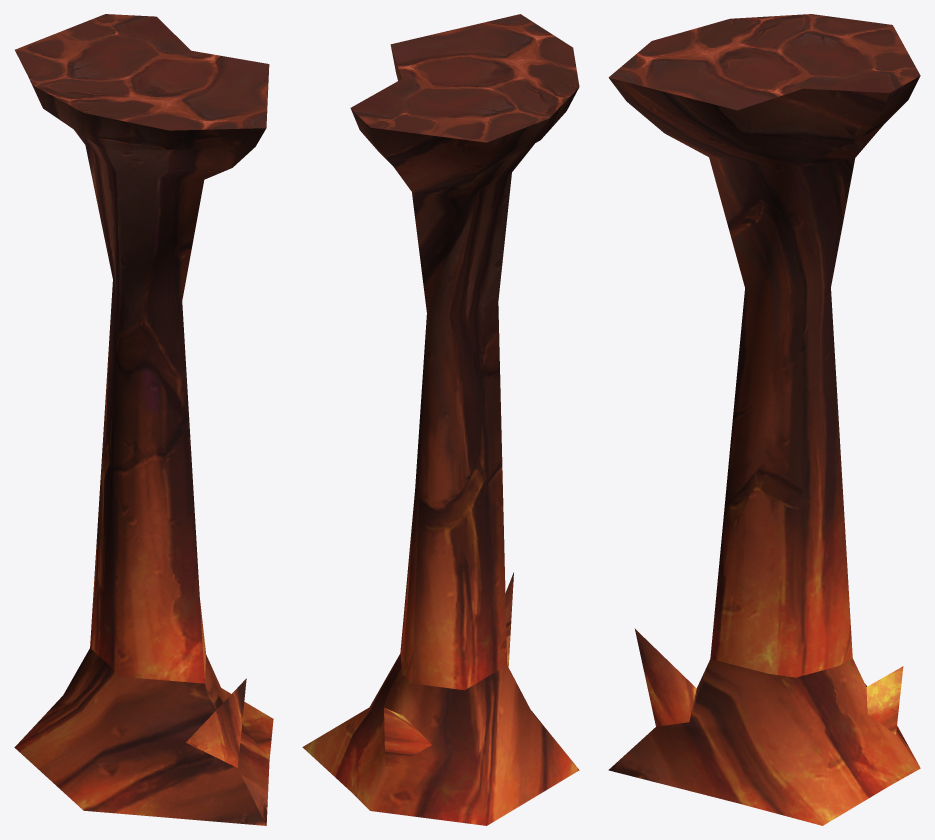
Rendered from fukongshi_huo_01.FBX.
3 views of the same model, side by side, from view 1: azimuth 30°, elevation 25°; view 2: azimuth 150°, elevation 25°; view 3: azimuth 270°, elevation 25° (orthographic). The views are drawn at different scales.
Parts seen in each view (by area): view 1: fukongshi_huo_01; view 2: fukongshi_huo_01; view 3: fukongshi_huo_01.
Part boxes in pixels (bbox=[...]): fukongshi_huo_01: bbox=[14, 14, 273, 825]; fukongshi_huo_01: bbox=[302, 14, 579, 825]; fukongshi_huo_01: bbox=[608, 14, 920, 825].
Bounding box in the file's own units: 369 × 409 × 999.
